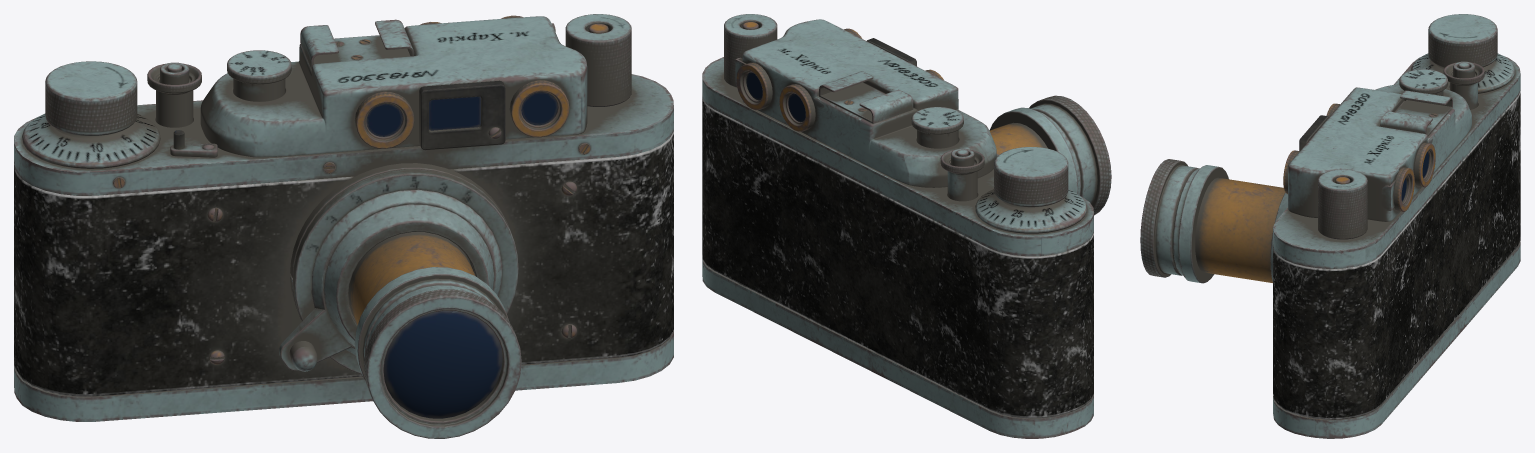
3 views of the same model, side by side, from view 1: azimuth 30°, elevation 25°; view 2: azimuth 150°, elevation 25°; view 3: azimuth 270°, elevation 25° (orthographic). The views are drawn at different scales.
Visible parts, largest first — view 1: Cube_low, KOK_low, Cube.001_low, Cube.002_low, Cylinder.016_low, Cylinder_low, Sphere_low, Cylinder.012_low, Cylinder.014_low, Cylinder.013_low, Cylinder.015_low, Cylinder.003_low (+11 smaller); view 2: Cube_low, KOK_low, Cube.001_low, Cube.002_low, Cylinder_low, Cylinder.016_low, Plane_low, Cylinder.003_low, Cylinder.001_low, Cylinder.002_low, Cylinder.015_low, Cylinder.021_low (+1 smaller); view 3: Cube_low, KOK_low, Cube.001_low, Cylinder.015_low, Cylinder.016_low, Cube.002_low, Cylinder_low, Cylinder.003_low, Plane_low, Cylinder.002_low, Cylinder.001_low, Cylinder.021_low (+1 smaller).
Boxes of the visible parts, <box> form: Cube_low: <box>14,131,673,396</box>; KOK_low: <box>200,16,587,157</box>; Cube.001_low: <box>14,74,673,195</box>; Cube.002_low: <box>14,331,673,421</box>; Cylinder.016_low: <box>354,267,521,438</box>; Cylinder_low: <box>22,61,160,168</box>; Sphere_low: <box>383,310,502,418</box>; Cylinder.012_low: <box>292,169,518,374</box>; Cylinder.014_low: <box>324,204,494,346</box>; Cylinder.013_low: <box>279,189,502,370</box>; Cylinder.015_low: <box>348,232,475,324</box>; Cylinder.003_low: <box>565,14,631,106</box>; Cube_low: <box>702,95,1093,418</box>; KOK_low: <box>742,19,996,187</box>; Cube.001_low: <box>702,57,1093,256</box>; Cube.002_low: <box>702,256,1093,438</box>; Cylinder_low: <box>975,147,1086,233</box>; Cylinder.016_low: <box>989,95,1111,215</box>; Plane_low: <box>819,71,913,123</box>; Cylinder.003_low: <box>724,14,777,87</box>; Cylinder.001_low: <box>911,107,963,148</box>; Cylinder.002_low: <box>940,148,984,201</box>; Cylinder.015_low: <box>989,122,1047,154</box>; Cylinder.021_low: <box>736,62,772,110</box>; Cube_low: <box>1273,92,1520,419</box>; KOK_low: <box>1288,84,1471,221</box>; Cube.001_low: <box>1273,56,1520,268</box>; Cylinder.015_low: <box>1195,177,1285,282</box>; Cylinder.016_low: <box>1140,159,1228,283</box>; Cube.002_low: <box>1273,242,1520,438</box>; Cylinder_low: <box>1411,14,1514,93</box>; Cylinder.003_low: <box>1318,169,1367,239</box>; Plane_low: <box>1380,90,1452,136</box>; Cylinder.002_low: <box>1443,61,1484,109</box>; Cylinder.001_low: <box>1399,69,1447,100</box>; Cylinder.021_low: <box>1393,167,1414,211</box>.
Size of the model in its own units: 12.98 by 7.25 by 10.29.
Materials: 1 (1 with a texture image).
